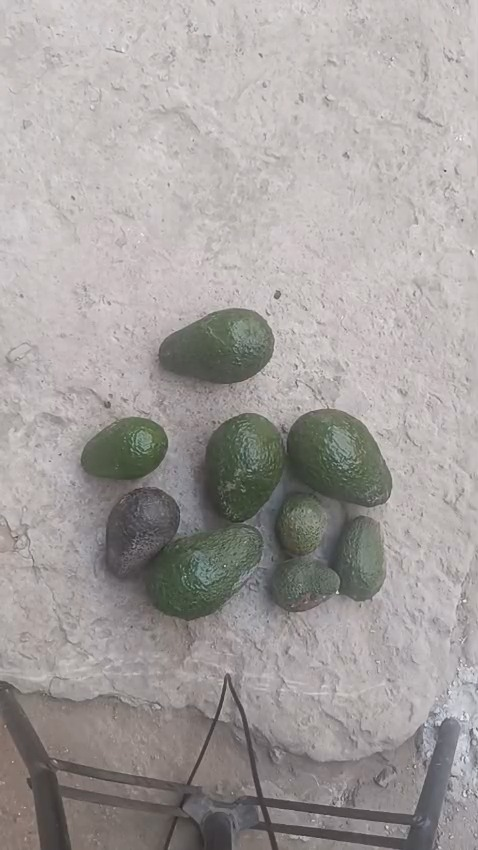Primera: (144, 523, 265, 619), (286, 409, 392, 506), (204, 413, 285, 521), (159, 309, 274, 383)
Segunda: (104, 487, 180, 578), (81, 417, 167, 481)
Tercera: (333, 514, 384, 601), (270, 555, 340, 613), (276, 492, 329, 555)
